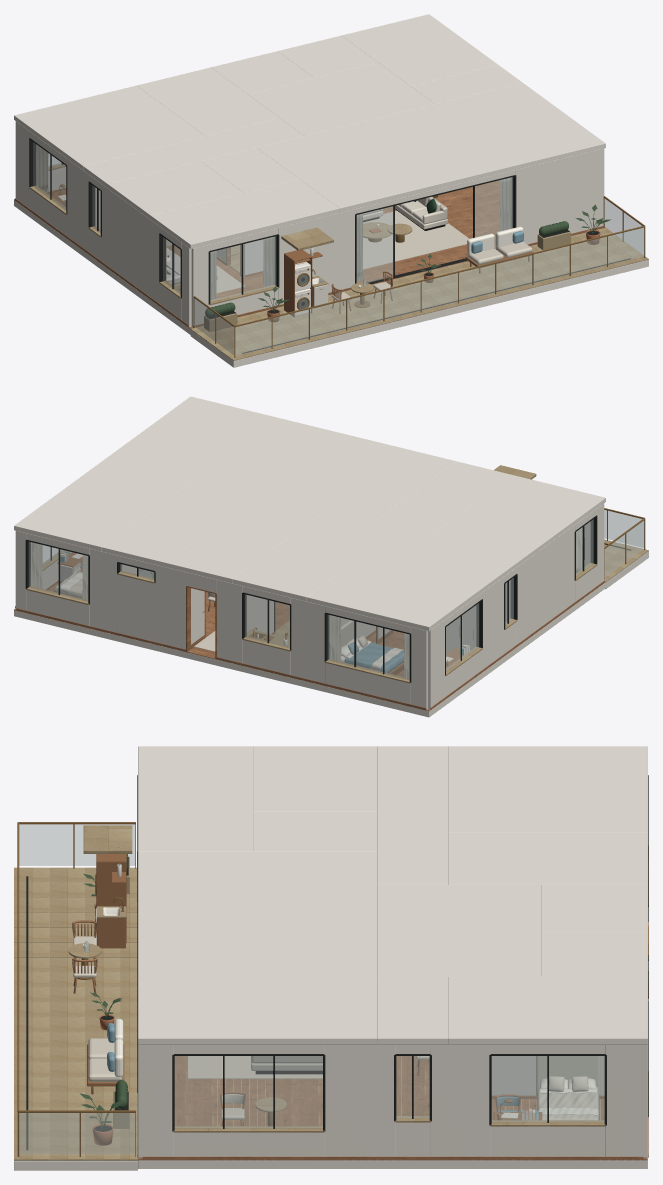
File: 云澜汇_01三房两厅.glb
3 views of the same model, one above another, from view 1: azimuth 30°, elevation 25°; view 2: azimuth 150°, elevation 25°; view 3: azimuth 270°, elevation 25° (orthographic). The views are drawn at different scales.
Visible parts, largest first — view 1: Ceiling living0, Balcony safety glass.001, Ceiling bed_northwest0, Ceiling dining0, Ceiling bed_primary0, Wall outer_south.002, Ceiling bed_northeast0, Ceiling kitchen0, Ceiling gallery_west0, Floor individually jointed oak, Wall outer_west.001, Ceiling bed_primary1 (+35 smaller); view 2: Ceiling living0, Ceiling bed_northwest0, Ceiling dining0, Ceiling bed_northeast0, Ceiling bed_primary0, Ceiling kitchen0, Ceiling gallery_west0, Wall outer_west.001, Ceiling bed_primary1, Structure main floor slab, Ceiling foyer0, Wall outer_north.001 (+39 smaller); view 3: Ceiling living0, Ceiling bed_northwest0, Ceiling dining0, Ceiling bed_northeast0, Ceiling bed_primary0, Ceiling kitchen0, Ceiling gallery_west0, Floor individually jointed oak, Ceiling bed_primary1, Wall outer_east.001, Wall outer_east.002, Ceiling foyer0 (+34 smaller).
Boxes of the visible parts, <box> form: Ceiling living0: <box>257,83,605,212</box>; Balcony safety glass.001: <box>235,227,644,355</box>; Ceiling bed_northwest0: <box>14,85,204,169</box>; Ceiling dining0: <box>248,62,434,135</box>; Ceiling bed_primary0: <box>150,179,339,248</box>; Wall outer_south.002: <box>515,148,603,244</box>; Ceiling bed_northeast0: <box>341,14,497,85</box>; Ceiling kitchen0: <box>136,67,279,135</box>; Ceiling gallery_west0: <box>83,118,303,187</box>; Floor individually jointed oak: <box>14,180,605,328</box>; Wall outer_west.001: <box>101,184,159,303</box>; Ceiling bed_primary1: <box>107,161,243,219</box>; Ceiling living0: <box>108,396,456,521</box>; Ceiling bed_northwest0: <box>307,546,498,631</box>; Ceiling dining0: <box>139,478,325,551</box>; Ceiling bed_northeast0: <box>14,475,170,551</box>; Ceiling bed_primary0: <box>417,461,605,530</box>; Ceiling kitchen0: <box>232,528,375,601</box>; Ceiling gallery_west0: <box>301,510,522,580</box>; Wall outer_west.001: <box>516,525,575,644</box>; Ceiling bed_primary1: <box>430,504,565,562</box>; Structure main floor slab: <box>14,582,605,717</box>; Ceiling foyer0: <box>165,536,268,583</box>; Wall outer_north.001: <box>291,598,325,683</box>; Ceiling living0: <box>138,851,377,1044</box>; Ceiling bed_northwest0: <box>448,746,647,832</box>; Ceiling dining0: <box>377,885,541,976</box>; Ceiling bed_northeast0: <box>448,976,647,1044</box>; Ceiling bed_primary0: <box>138,746,253,851</box>; Ceiling kitchen0: <box>448,832,647,884</box>; Ceiling gallery_west0: <box>377,746,448,884</box>; Floor individually jointed oak: <box>138,1056,647,1160</box>; Ceiling bed_primary1: <box>253,746,377,811</box>; Wall outer_east.001: <box>324,1045,395,1156</box>; Wall outer_east.002: <box>430,1045,490,1156</box>; Ceiling foyer0: <box>541,885,647,931</box>.
Size of the model in its own units: 15.65 by 3.29 by 14.32.
Materials: 38 (6 with a texture image).
